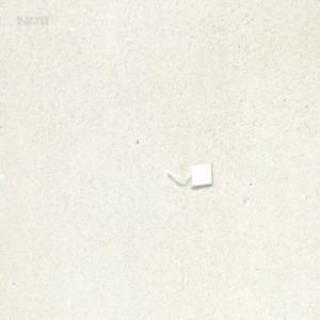LuggageTagtrack_idkeyframe: (164, 159, 212, 187)
